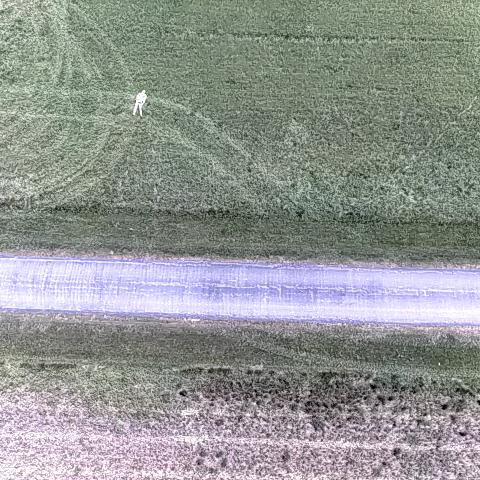person: (132, 88, 148, 118)
